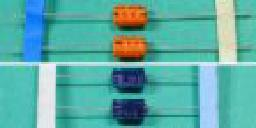Electrolytic-Capacitor: (56, 66, 196, 96), (55, 96, 198, 124), (104, 31, 154, 59), (111, 4, 152, 30)
